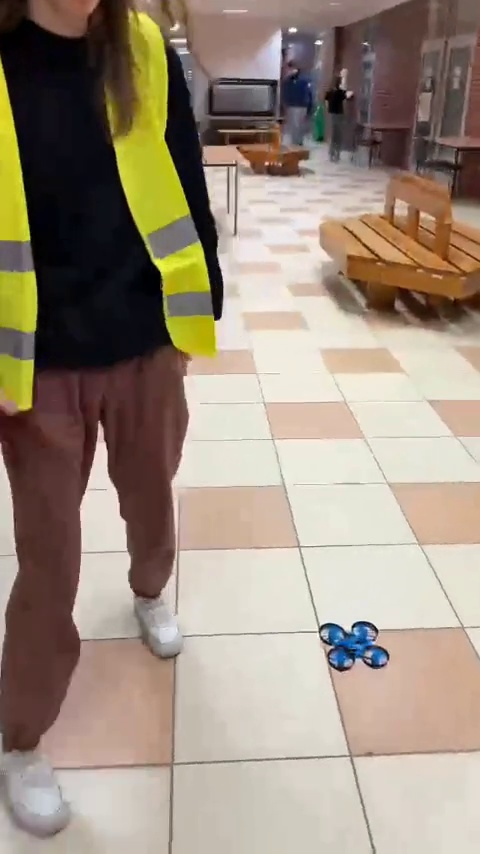drone: (318, 617, 388, 674)
no vest: (277, 59, 317, 159), (319, 72, 355, 164)
vest: (2, 3, 207, 824)
